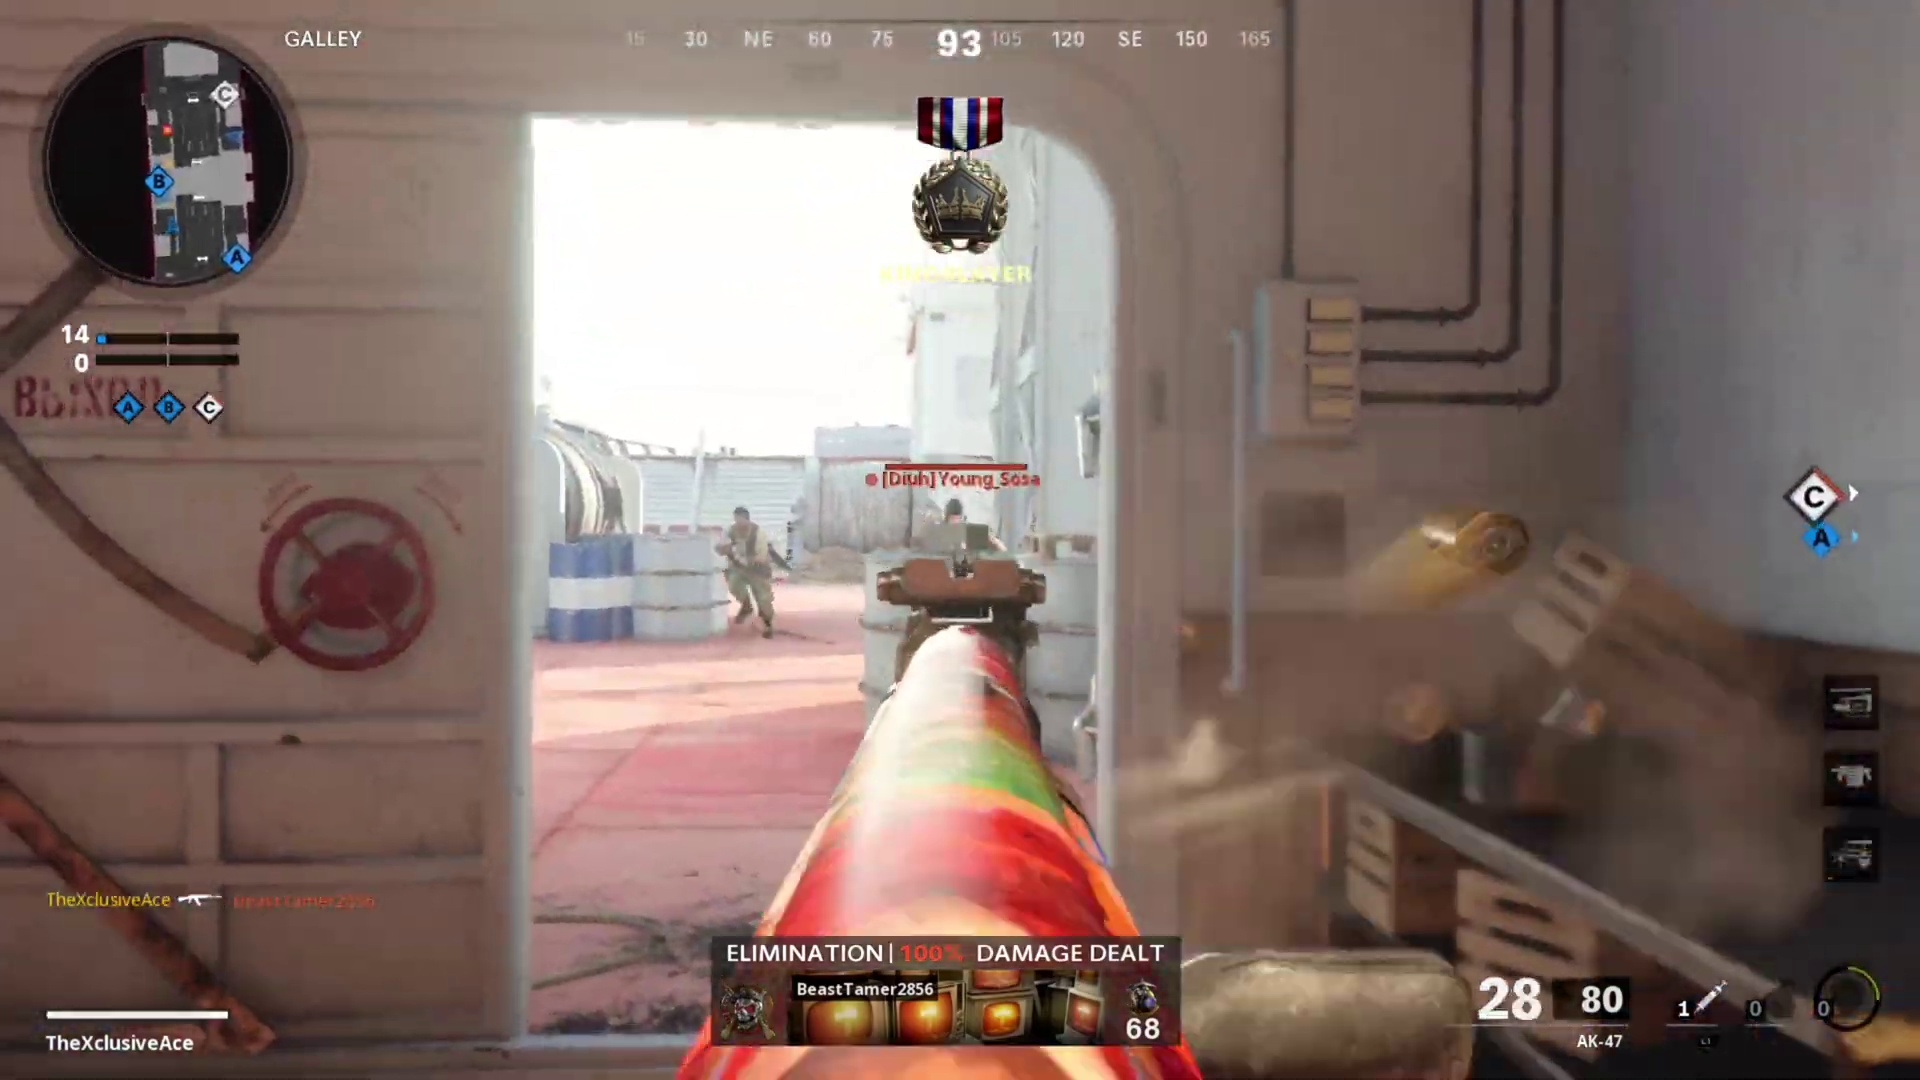head: (937, 502, 965, 532), (732, 500, 754, 531)
person: (716, 500, 782, 636)
